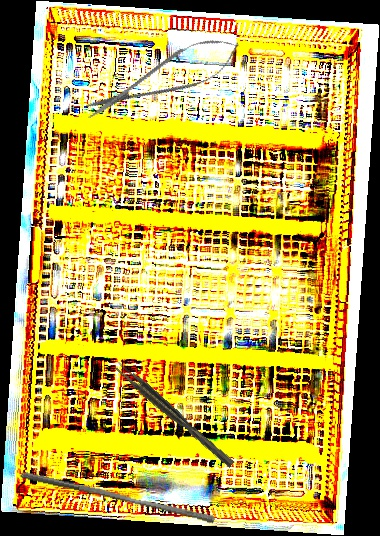Micro Scissor: (77, 24, 248, 133)
Pusher: (17, 470, 218, 525)
Tissue Forceps: (112, 359, 235, 472)
